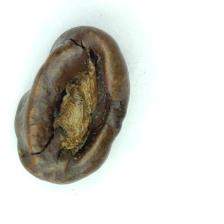NG: (44, 42, 115, 164)
